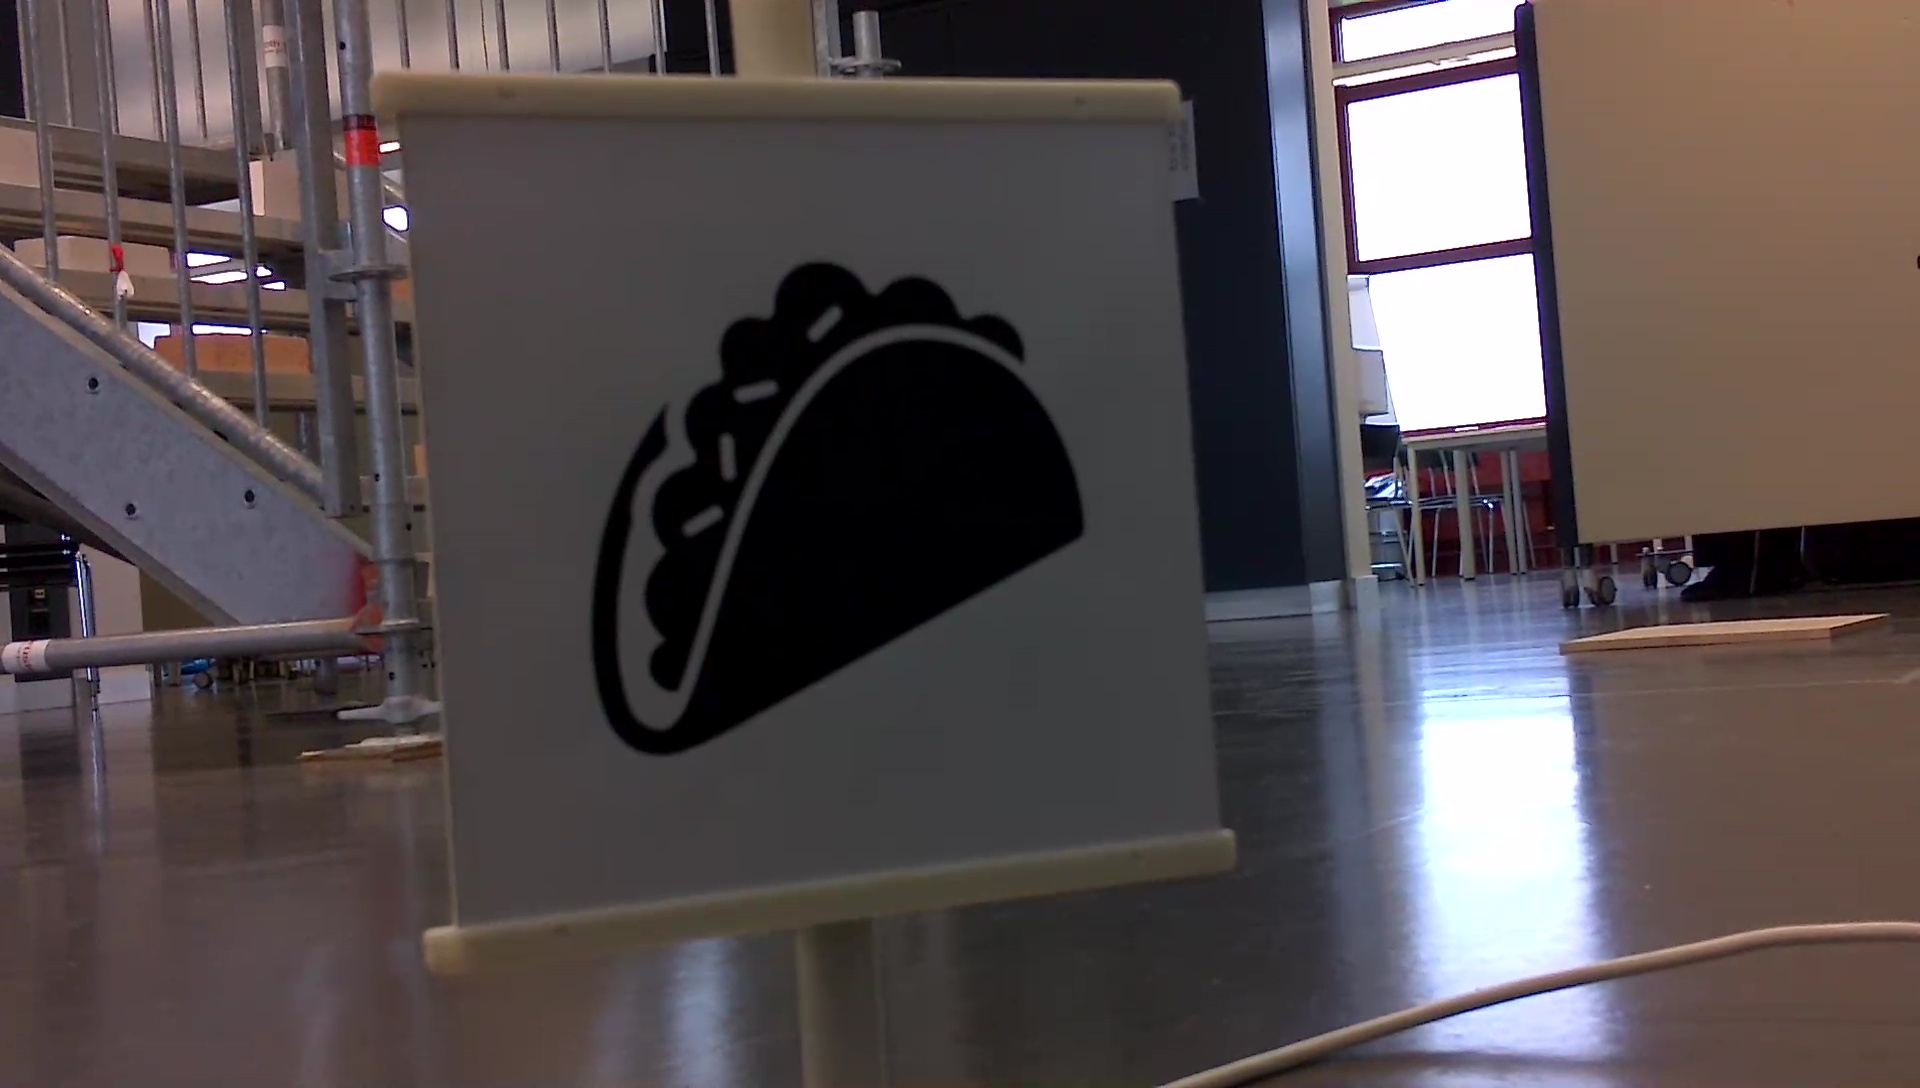taco: (574, 251, 1105, 771)
